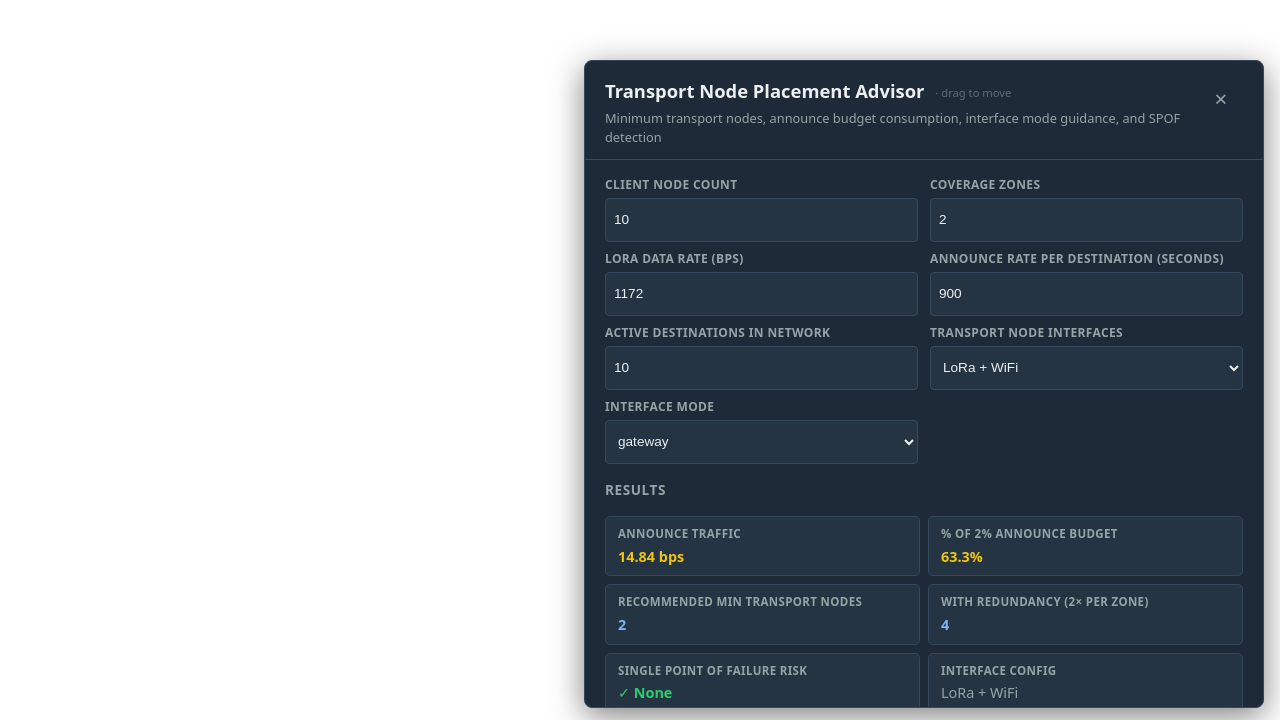
RNSTransportModal — computation (single zone) › coverage_zones=1 → SPOF detected when min_transport_nodes < 2
# Set to 1 zone
Step 1. Replace the text in the number field labelled "Coverage zones" with "1" → (1086, 220), box [930,198,1243,242]
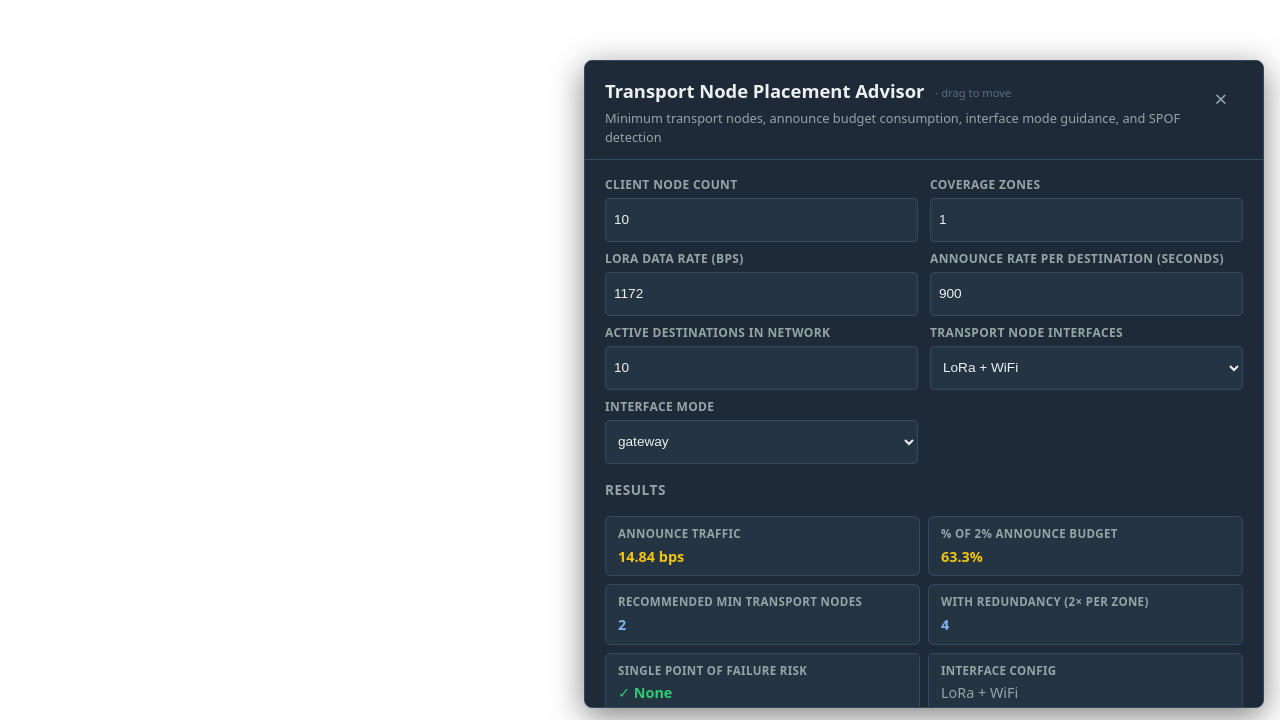
Step 2. Leave the number field labelled "Coverage zones", box [930,198,1243,242]
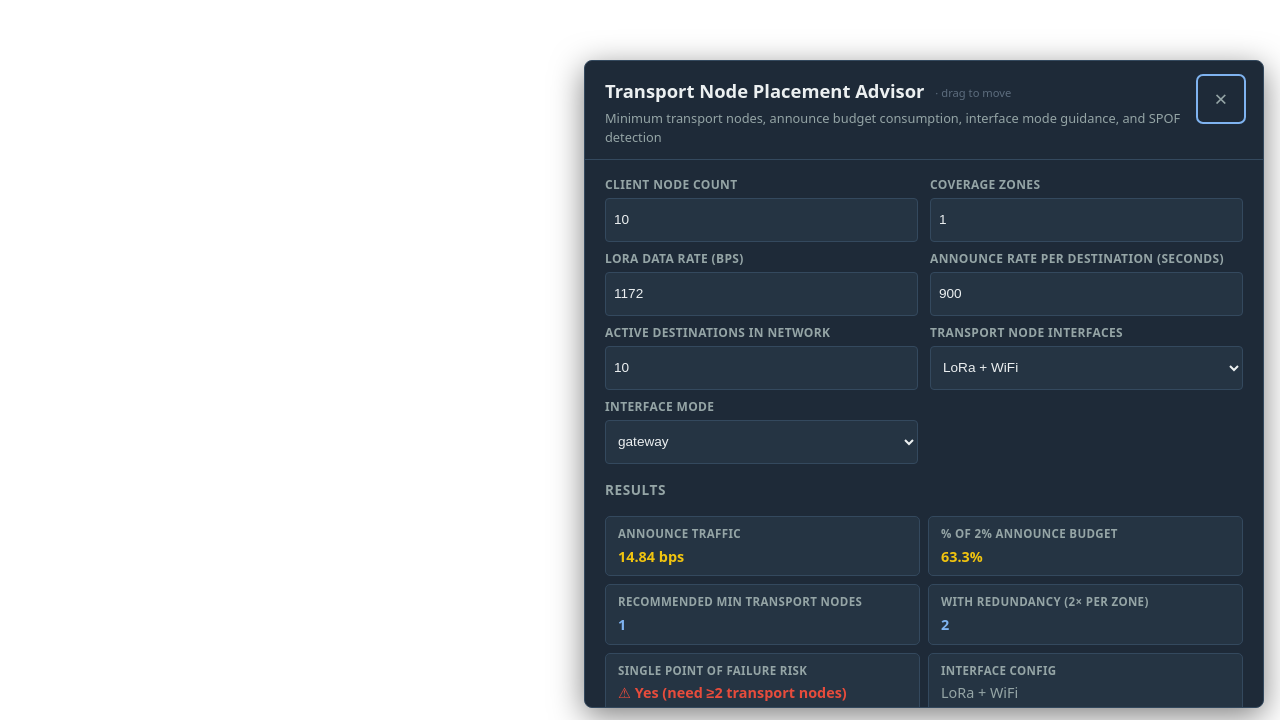
Expected: the text with class "rnt-result-value" shows "Yes", [618,683,847,702]
